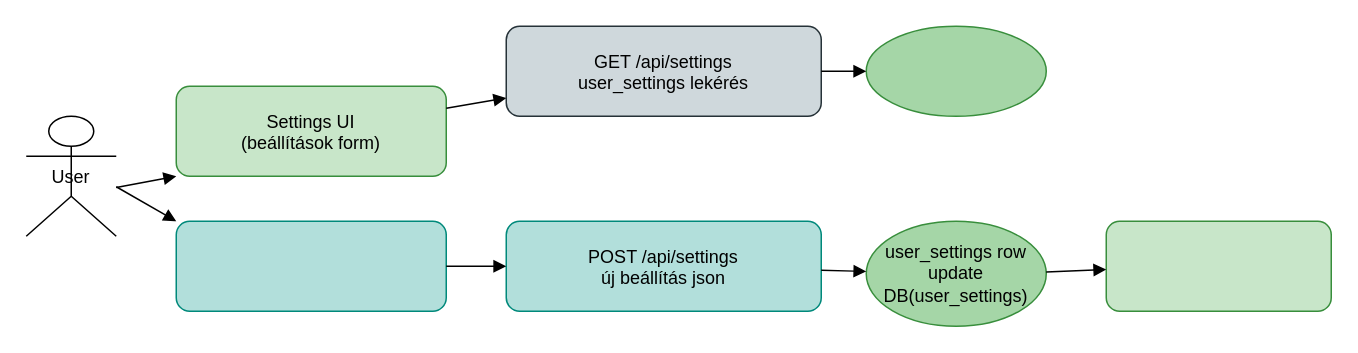
The diagram is 1358 pixels wide and 353 high, and some of its shapes have lost their labels. The centre of each missing label's shape, as x and y in pixels:
DB lekérdezés (user_settings): the point at 955,70
Visszajelzés Siker/Hiba: the point at 1218,265
Új beállítások mentése (form): the point at 310,265
